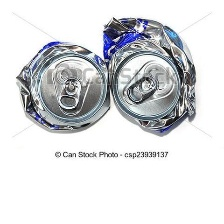can: (99, 13, 199, 138), (13, 40, 110, 139)
